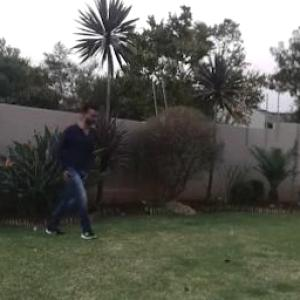follow: (54, 101, 94, 239)
